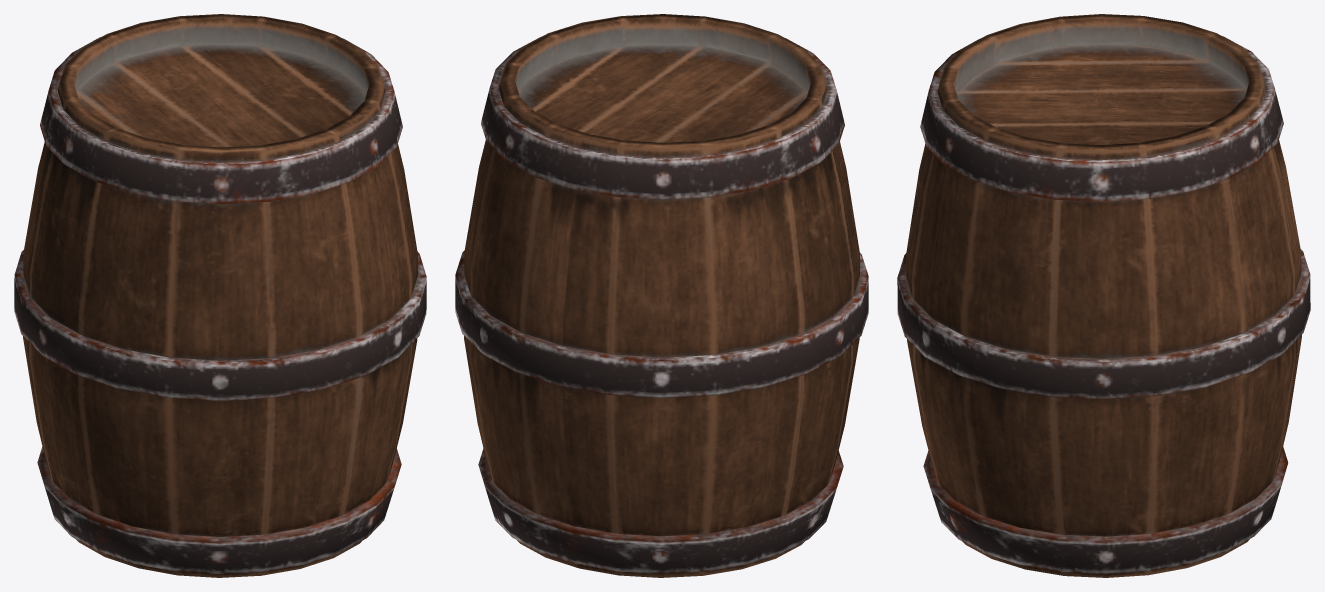
The model's file is barrel_wood.glb.
The picture shows the model from 3 angles, left to right: view 1: azimuth 30°, elevation 25°; view 2: azimuth 150°, elevation 25°; view 3: azimuth 270°, elevation 25°; orthographic projection.
Parts seen in each view (by area): view 1: barrel_wood; view 2: barrel_wood; view 3: barrel_wood.
Part boxes in pixels (x1,y1,x2,y2): barrel_wood: (14, 14, 426, 577); barrel_wood: (455, 14, 868, 577); barrel_wood: (897, 14, 1310, 577).
Size of what is drawn, in the model's own units: 0.7381 by 0.848 by 0.7388.
Materials: 1 (1 with a texture image).
